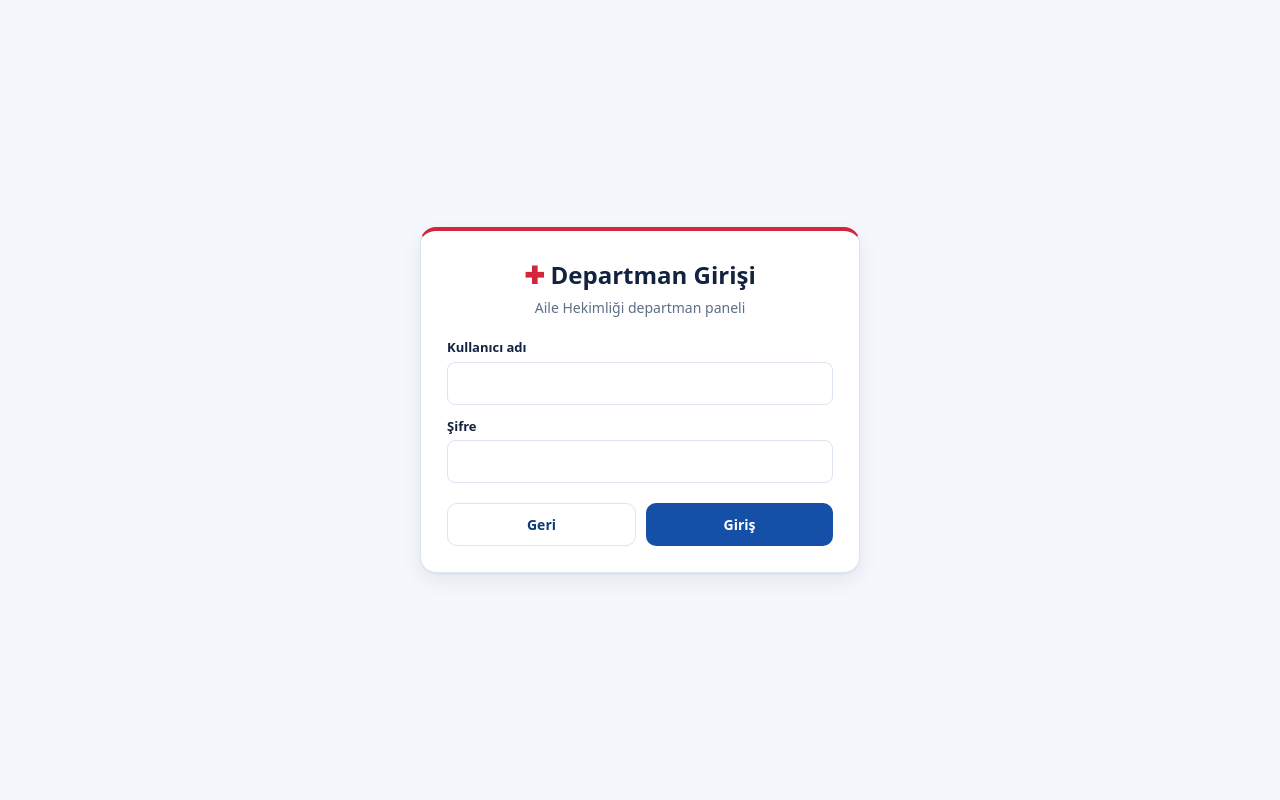
Test: department login › signs in with username and password and opens the panel
Expected: the heading "Departman Girişi" is shown, [551, 258, 756, 291]
Type "aile.hekimligi" into the field labelled "Kullanıcı adı" at (640, 383), box [447, 362, 833, 404]
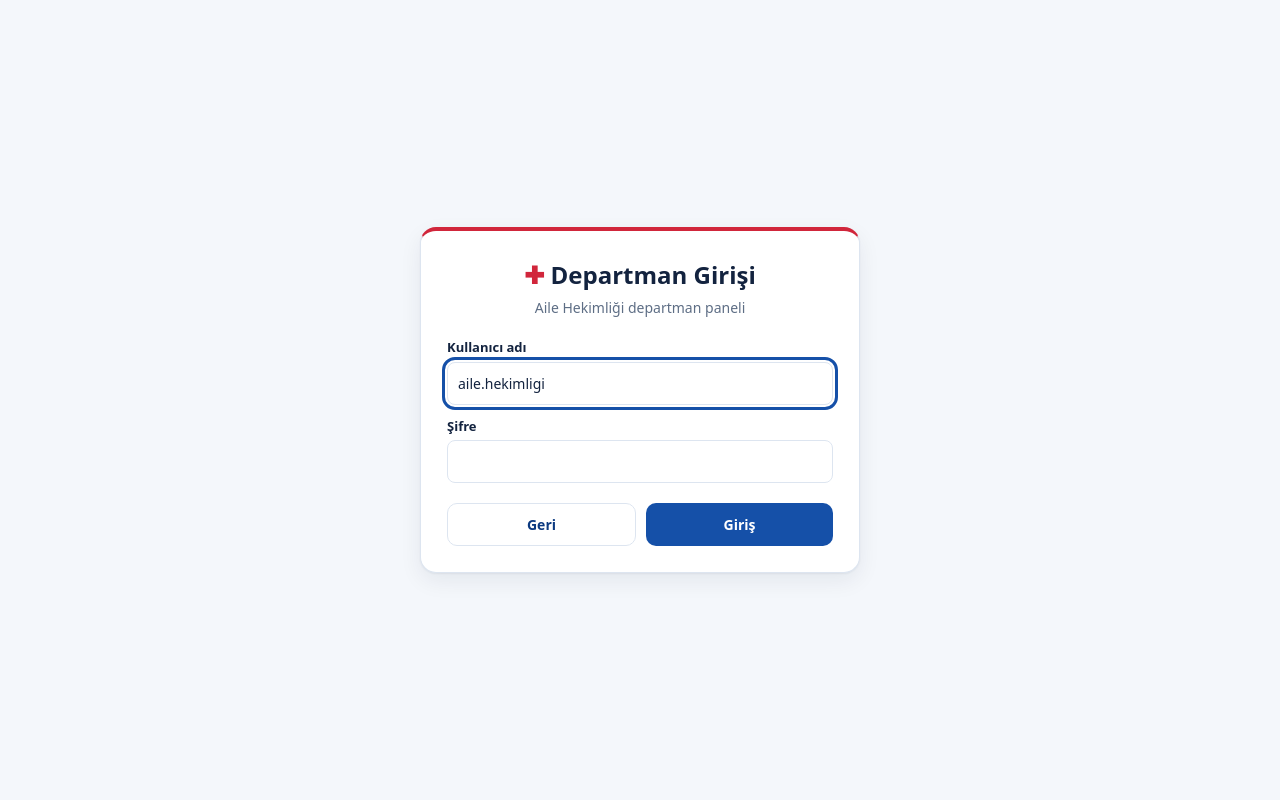
Type "demo1234" into the password field labelled "Şifre" at (640, 462), box [447, 440, 833, 483]
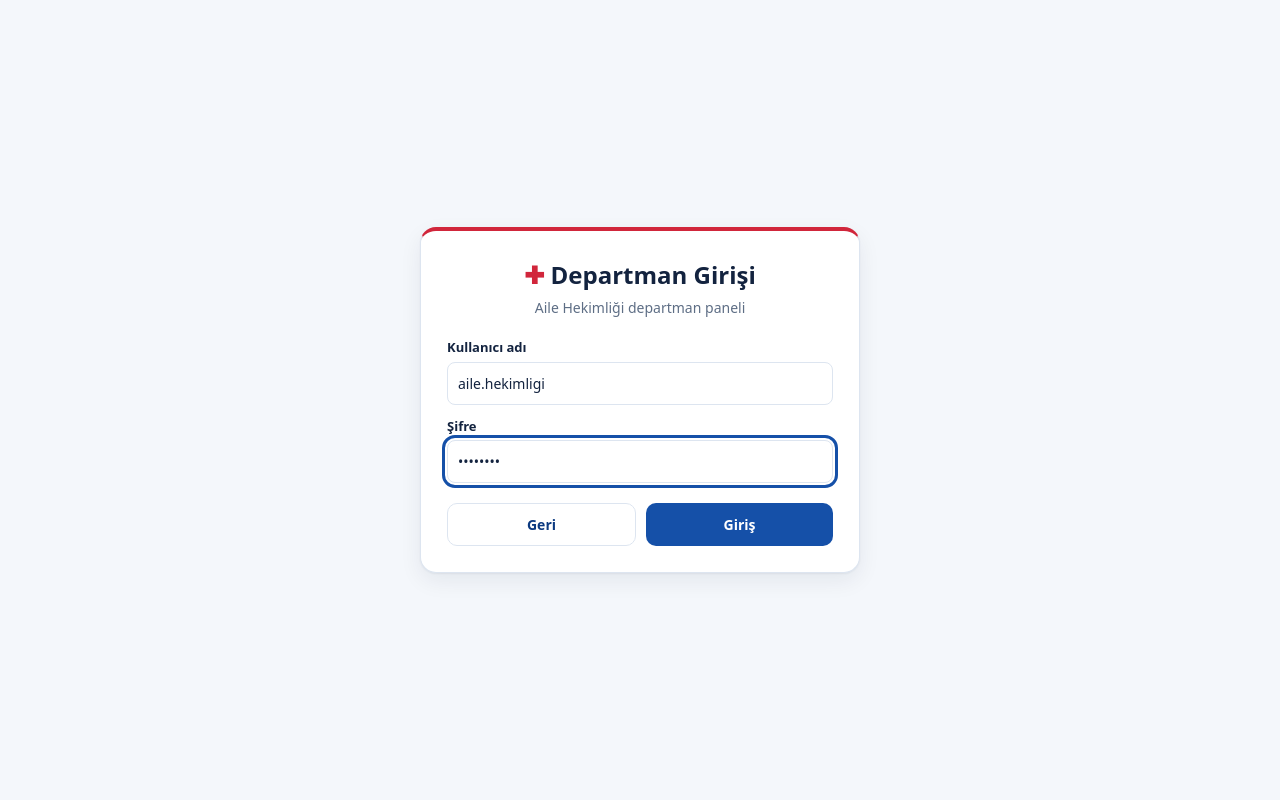
Click the button "Giriş" at (740, 524), box [646, 503, 833, 546]
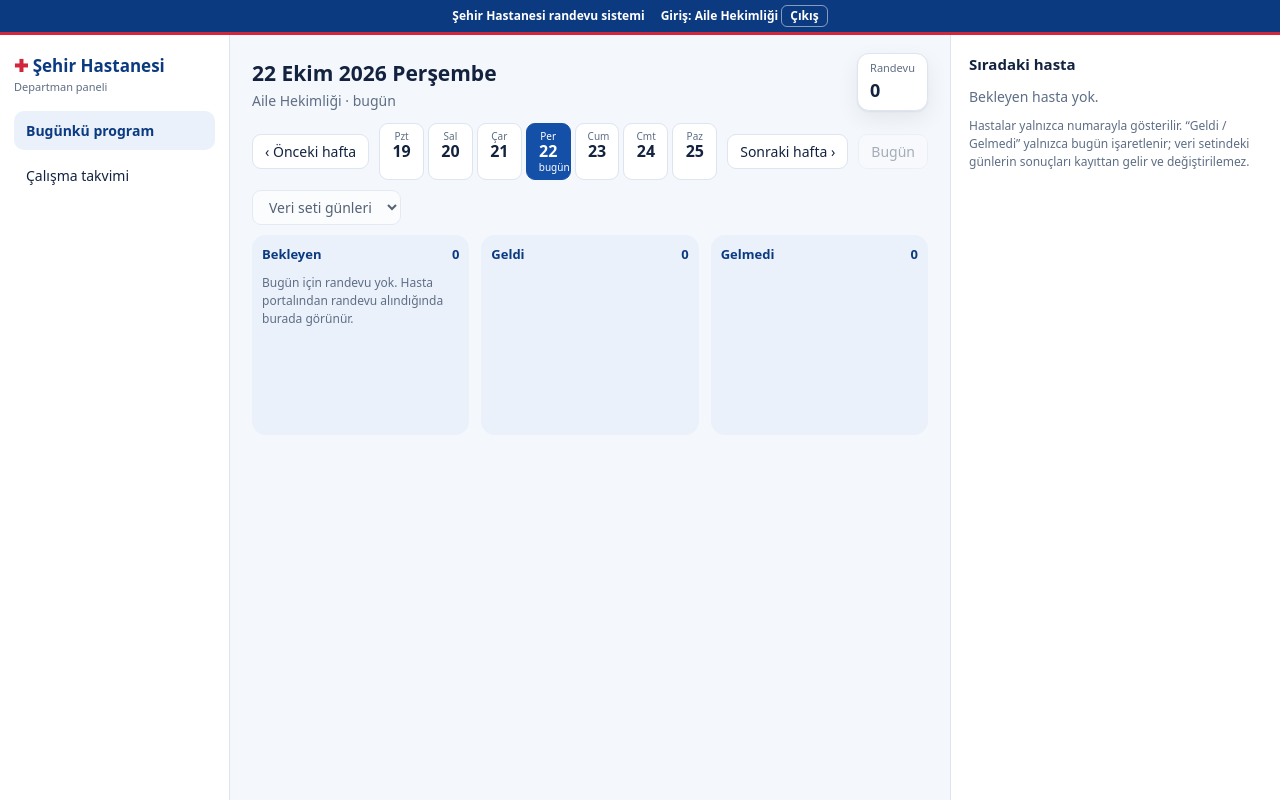
Expected: the text "Departman paneli" is shown, [14, 78, 107, 94]
Expected: the link "Bugünkü program" is shown, [14, 111, 215, 150]
Expected: the text "Aile Hekimliği" is shown, [695, 7, 778, 24]
